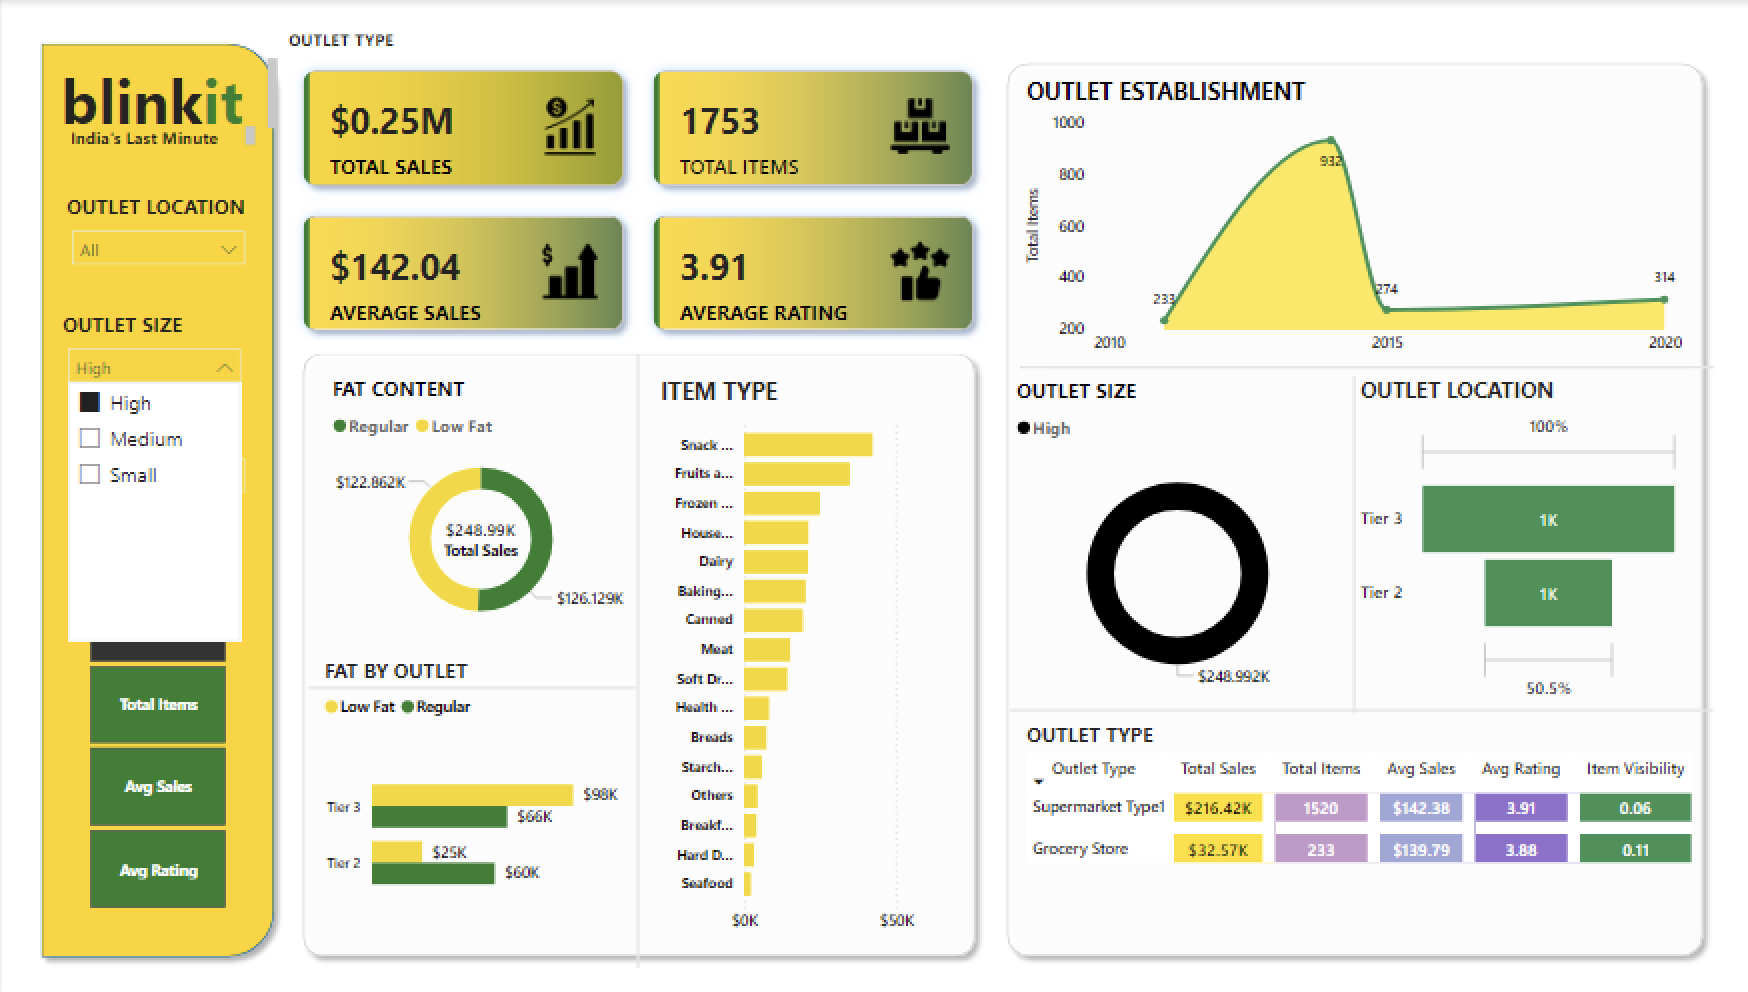

The dashboard page shown, as its layout file describes it:
{"tool":"powerbi","page":{"name":"Dashboard","canvas":[1400,800],"ordinal":0},"visuals":[{"type":"shape","box":[22.7,25.2,204.3,749.2],"z":0},{"type":"textbox","box":[22.4,41.6,203.2,70.4],"z":1000},{"type":"textbox","box":[49.6,96,158.4,30.4],"z":2000},{"type":"cardVisual","title":"OUTLET TYPE","fields":{"Data":["BlinkIT Grocery Data.Total Sales","BlinkIT Grocery Data.Total Items","BlinkIT Grocery Data.Avg Sales","BlinkIT Grocery Data.Avg Rating"]},"box":[224.5,22.8,570.7,260.6],"z":3000},{"type":"shape","box":[232.1,273.9,555.4,500.3],"z":4000},{"type":"donutChart","title":"FAT CONTENT","fields":{"Y":["BlinkIT Grocery Data.Avg Rating"],"Category":["BlinkIT Grocery Data.Item Fat Content"]},"box":[259.2,299.2,248,214.4],"z":5000},{"type":"slicer","title":"METRICS","fields":{"Values":["Metrics.Metrics"]},"box":[44.8,435.2,158.4,297.6],"z":6000},{"type":"cardVisual","fields":{"Data":["BlinkIT Grocery Data.Total Sales"]},"box":[324.8,382.4,116.8,99.2],"z":7000},{"type":"clusteredBarChart","title":"FAT BY OUTLET","fields":{"Y":["BlinkIT Grocery Data.Avg Rating"],"Series":["BlinkIT Grocery Data.Item Fat Content"],"Category":["BlinkIT Grocery Data.Outlet Location Type"]},"box":[252.8,524.8,249.6,230.4],"z":8000},{"type":"shape","box":[245.4,545.9,262.5,9.5],"z":9000},{"type":"shape","box":[502.4,283.2,12.8,491.2],"z":10000},{"type":"clusteredBarChart","title":"ITEM TYPE","fields":{"Y":["BlinkIT Grocery Data.Avg Rating"],"Category":["BlinkIT Grocery Data.Item Type"]},"box":[521.6,299.2,236.8,456],"z":11000},{"type":"shape","box":[795.1,41.8,574.5,732.3],"z":12000},{"type":"lineChart","title":"OUTLET ESTABLISHMENT","fields":{"Category":["BlinkIT Grocery Data.Outlet Establishment Year"],"Y":["BlinkIT Grocery Data.Total Items"]},"box":[814.1,59,534.5,234],"z":13000},{"type":"shape","box":[814.1,283.4,534.5,20.9],"z":14000},{"type":"donutChart","title":"OUTLET SIZE","fields":{"Y":["BlinkIT Grocery Data.Total Sales"],"Category":["BlinkIT Grocery Data.Outlet Size"]},"box":[806.5,300.5,268.2,266.3],"z":15000},{"type":"shape","box":[835.1,283.4,534.5,20.9],"z":16000},{"type":"shape","box":[1074.7,300.5,13.3,270.1],"z":17000},{"type":"funnel","title":"OUTLET LOCATION","fields":{"Y":["BlinkIT Grocery Data.Total Items"],"Category":["BlinkIT Grocery Data.Outlet Location Type"]},"box":[1082.3,298.6,266.3,268.2],"z":18000},{"type":"pivotTable","title":"OUTLET TYPE","fields":{"Rows":["BlinkIT Grocery Data.Outlet Type"],"Values":["BlinkIT Grocery Data.Total Sales","BlinkIT Grocery Data.Total Items","BlinkIT Grocery Data.Avg Sales","BlinkIT Grocery Data.Avg Rating","Avg(BlinkIT Grocery Data.Item Visibility)"]},"box":[814.1,570.7,568.8,203.5],"z":19000},{"type":"shape","box":[806.5,566.8,563,3.8],"z":20000},{"type":"slicer","title":"OUTLET LOCATION","fields":{"Values":["BlinkIT Grocery Data.Outlet Location Type"]},"box":[45.7,154.1,157.9,70.4],"z":20001},{"type":"slicer","title":"OUTLET SIZE","fields":{"Values":["BlinkIT Grocery Data.Outlet Size"]},"box":[43.8,247.3,157.9,70.4],"z":20002},{"type":"slicer","title":"ITEM TYPE","fields":{"Values":["BlinkIT Grocery Data.Item Type"]},"box":[45.7,336.7,157.9,70.4],"z":20003}]}

Visuals, with their boxes in screenshot pixels (x1, y1, x2, y2), scaled from the page's 1400x800 canvas onto the 1748x992 screenshot:
shape: (28, 31, 283, 960)
textbox: (28, 52, 282, 139)
textbox: (62, 119, 260, 157)
"OUTLET TYPE" cardVisual: (280, 28, 993, 351)
shape: (290, 340, 983, 960)
"FAT CONTENT" donutChart: (324, 371, 633, 637)
"METRICS" slicer: (56, 540, 254, 909)
cardVisual - BlinkIT Grocery Data.Total Sales: (406, 474, 551, 597)
"FAT BY OUTLET" clusteredBarChart: (316, 651, 627, 936)
shape: (306, 677, 634, 689)
shape: (627, 351, 643, 960)
"ITEM TYPE" clusteredBarChart: (651, 371, 947, 936)
shape: (993, 52, 1710, 960)
"OUTLET ESTABLISHMENT" lineChart: (1016, 73, 1684, 363)
shape: (1016, 351, 1684, 377)
"OUTLET SIZE" donutChart: (1007, 373, 1342, 703)
shape: (1043, 351, 1710, 377)
shape: (1342, 373, 1358, 708)
"OUTLET LOCATION" funnel: (1351, 370, 1684, 703)
"OUTLET TYPE" pivotTable: (1016, 708, 1727, 960)
shape: (1007, 703, 1710, 708)
"OUTLET LOCATION" slicer: (57, 191, 254, 278)
"OUTLET SIZE" slicer: (55, 307, 252, 394)
"ITEM TYPE" slicer: (57, 418, 254, 505)
